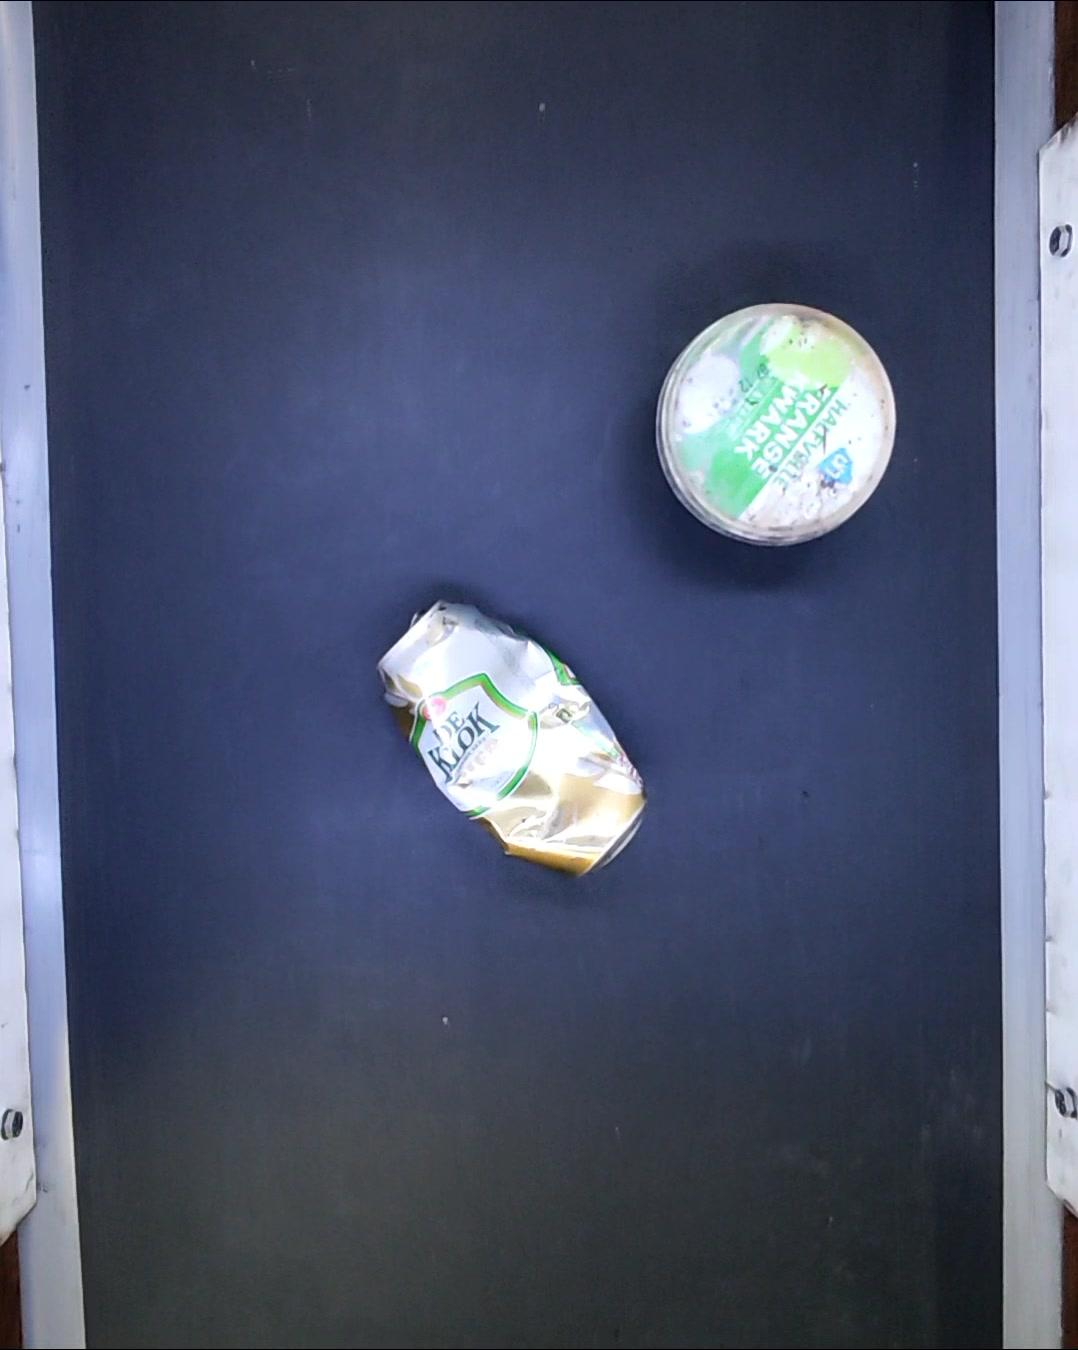Drankblikjes: (374, 597, 650, 877)
Voedselverpakkingen: (650, 294, 901, 550)
